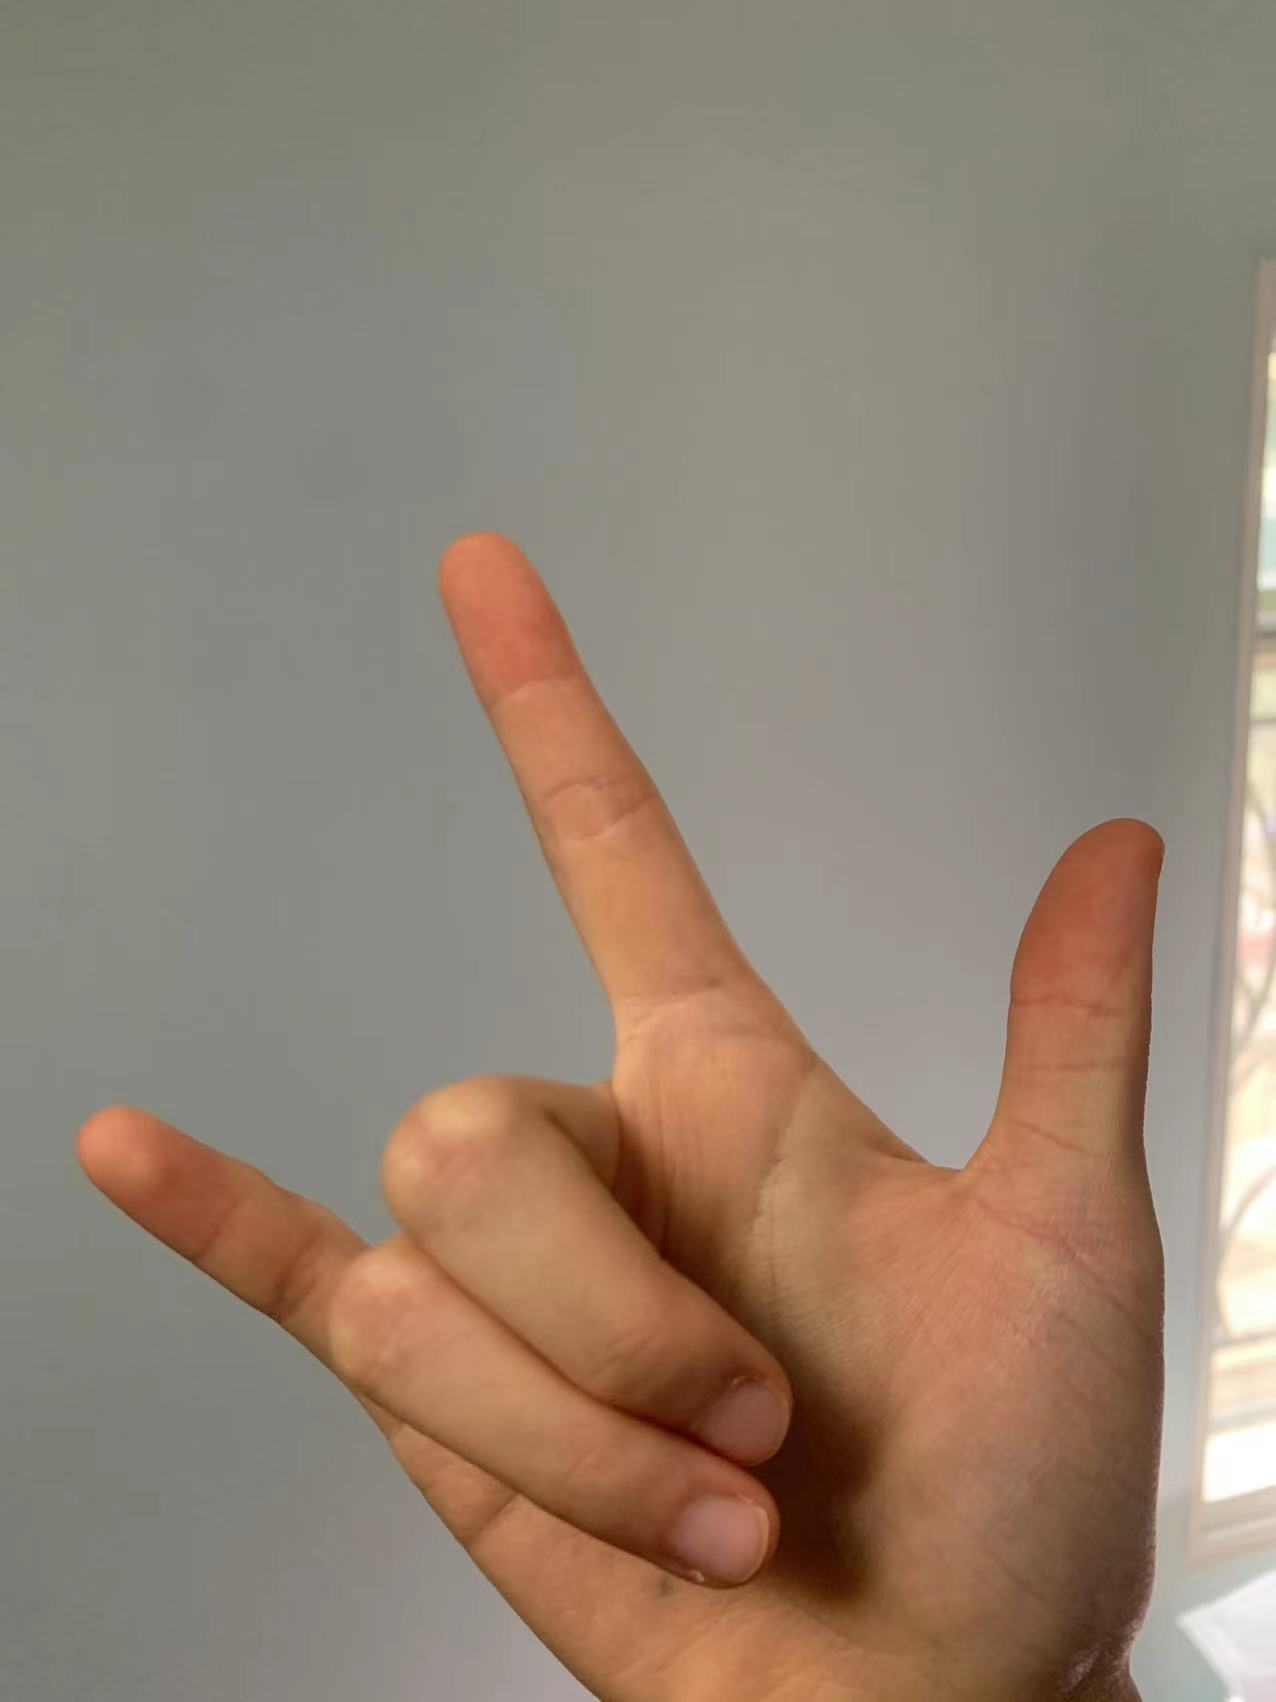back: (63, 531, 1182, 1667)
